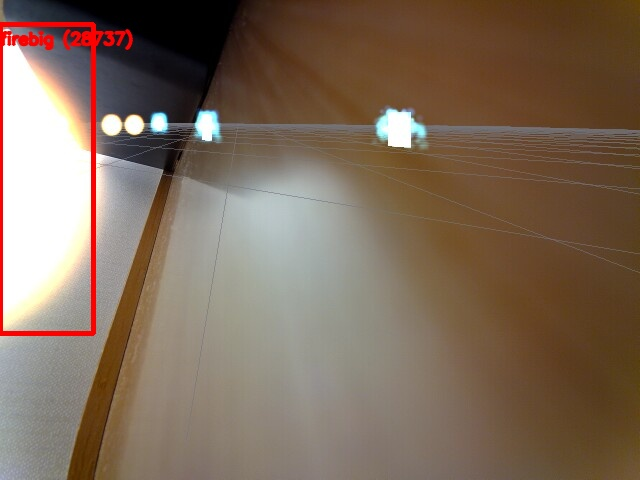firebig: (0, 24, 93, 333)
